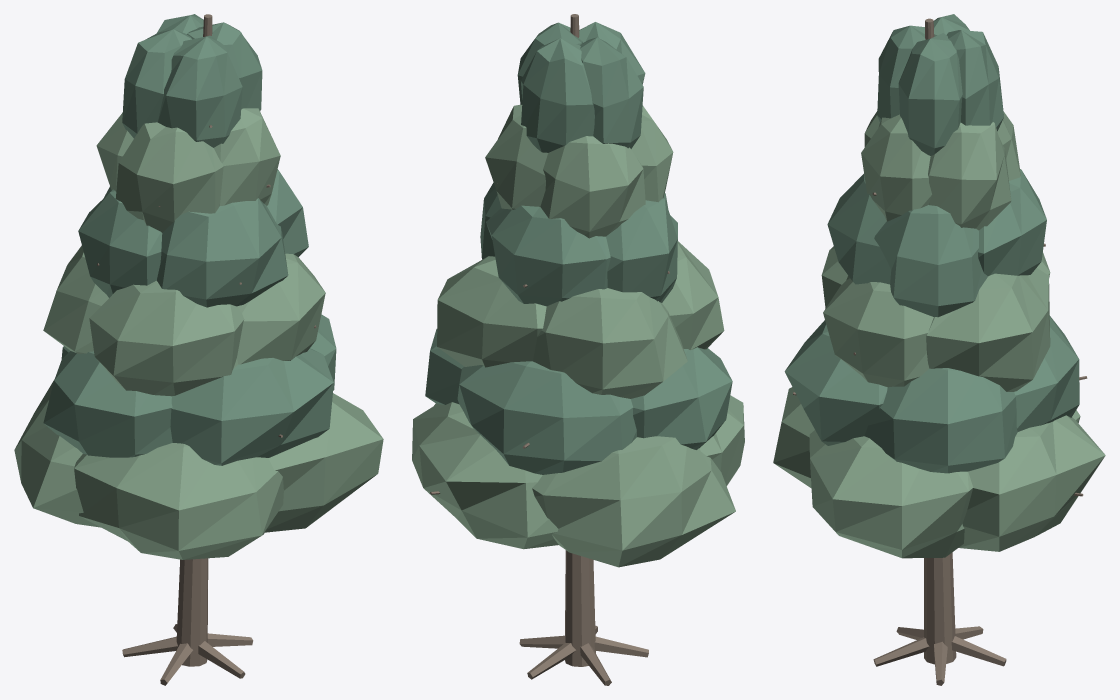
3 renders of one model, left to right at view 1: azimuth 30°, elevation 25°; view 2: azimuth 150°, elevation 25°; view 3: azimuth 270°, elevation 25°, orthographic.
Bounding box in the file's own units: 8.5 × 16.61 × 7.79.
